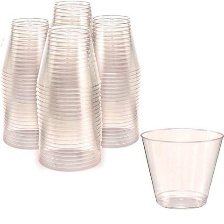glass: (32, 22, 108, 177), (44, 0, 105, 149), (89, 12, 150, 152), (0, 13, 58, 155), (136, 122, 224, 211)
